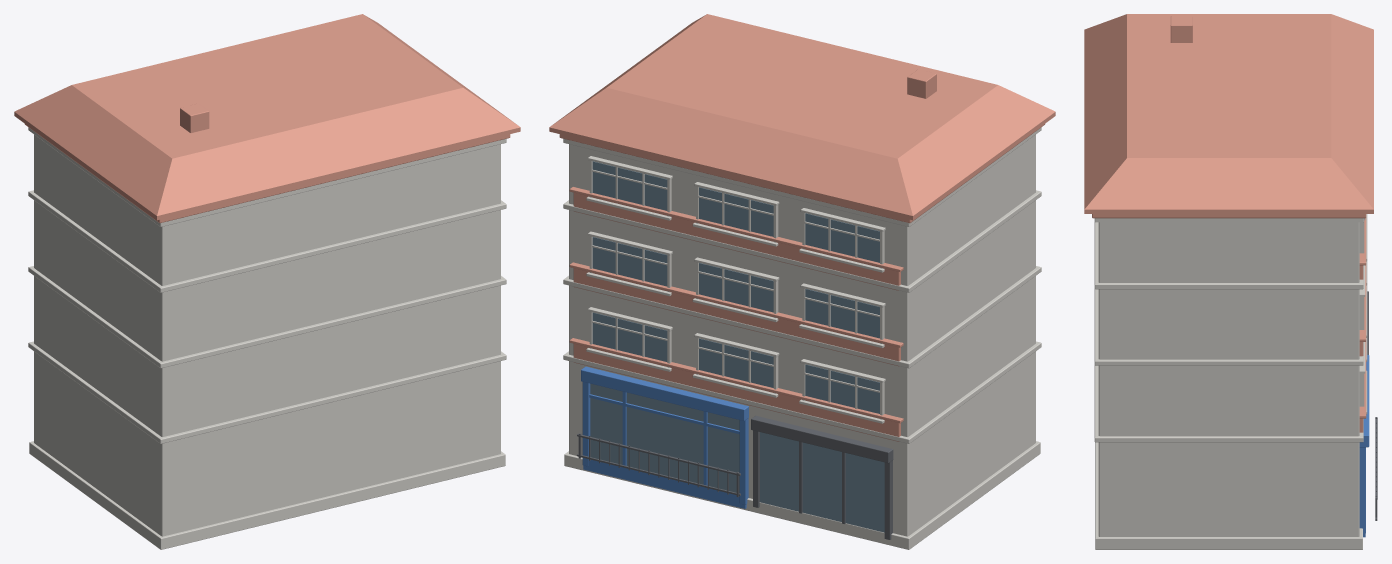
The model's file is Hamidiye_AziziyeShopBlock.fbx.
3 renders of one model, left to right at view 1: azimuth 30°, elevation 25°; view 2: azimuth 150°, elevation 25°; view 3: azimuth 270°, elevation 25°, orthographic.
Visible parts, largest first — view 1: Aziziye_Body, Aziziye_Roof; view 2: Aziziye_Body, Aziziye_Roof, Aziziye_CobaltGlass, Aziziye_LeftGlass, Aziziye_CobaltFrame, Aziziye_TerraBand_2, Aziziye_TerraBand_1, Aziziye_TerraBand_3, Aziziye_LeftShop, Aziziye_Win_3_4.2, Aziziye_Win_1_4.2, Aziziye_Win_2_4.2 (+7 smaller); view 3: Aziziye_Body, Aziziye_Roof, Aziziye_CobaltFrame.
Boxes of the visible parts, bbox=[...] form: Aziziye_Body: bbox=[28, 127, 506, 549]; Aziziye_Roof: bbox=[14, 14, 520, 223]; Aziziye_Body: bbox=[563, 127, 1041, 549]; Aziziye_Roof: bbox=[549, 14, 1055, 223]; Aziziye_CobaltGlass: bbox=[590, 383, 739, 492]; Aziziye_LeftGlass: bbox=[760, 432, 884, 532]; Aziziye_CobaltFrame: bbox=[581, 366, 748, 508]; Aziziye_TerraBand_2: bbox=[569, 262, 903, 366]; Aziziye_TerraBand_1: bbox=[569, 338, 903, 441]; Aziziye_TerraBand_3: bbox=[569, 187, 903, 290]; Aziziye_LeftShop: bbox=[751, 415, 893, 539]; Aziziye_Win_3_4.2: bbox=[592, 161, 667, 210]; Aziziye_Win_1_4.2: bbox=[592, 312, 667, 361]; Aziziye_Win_2_4.2: bbox=[592, 237, 667, 286]; Aziziye_Body: bbox=[1094, 214, 1367, 549]; Aziziye_Roof: bbox=[1084, 14, 1373, 218]; Aziziye_CobaltFrame: bbox=[1359, 354, 1369, 537].
Size of the model in its own units: 14.36 by 14.75 by 9.88.
